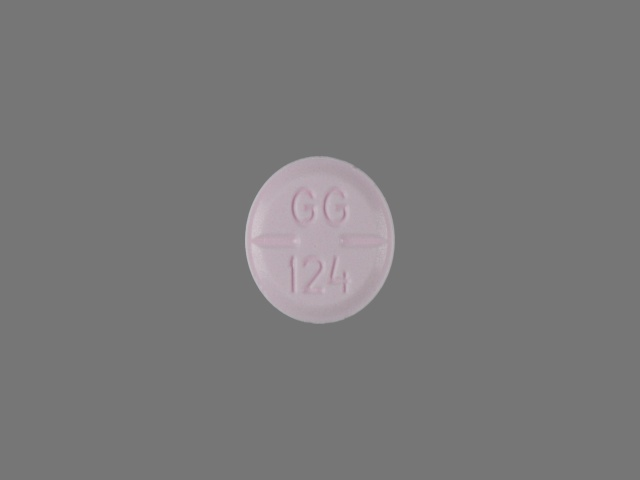1: (285, 252, 298, 296)
2: (298, 255, 328, 297)
4: (328, 252, 351, 301)
G: (319, 184, 351, 227), (287, 184, 319, 226)
|: (248, 230, 396, 255)
